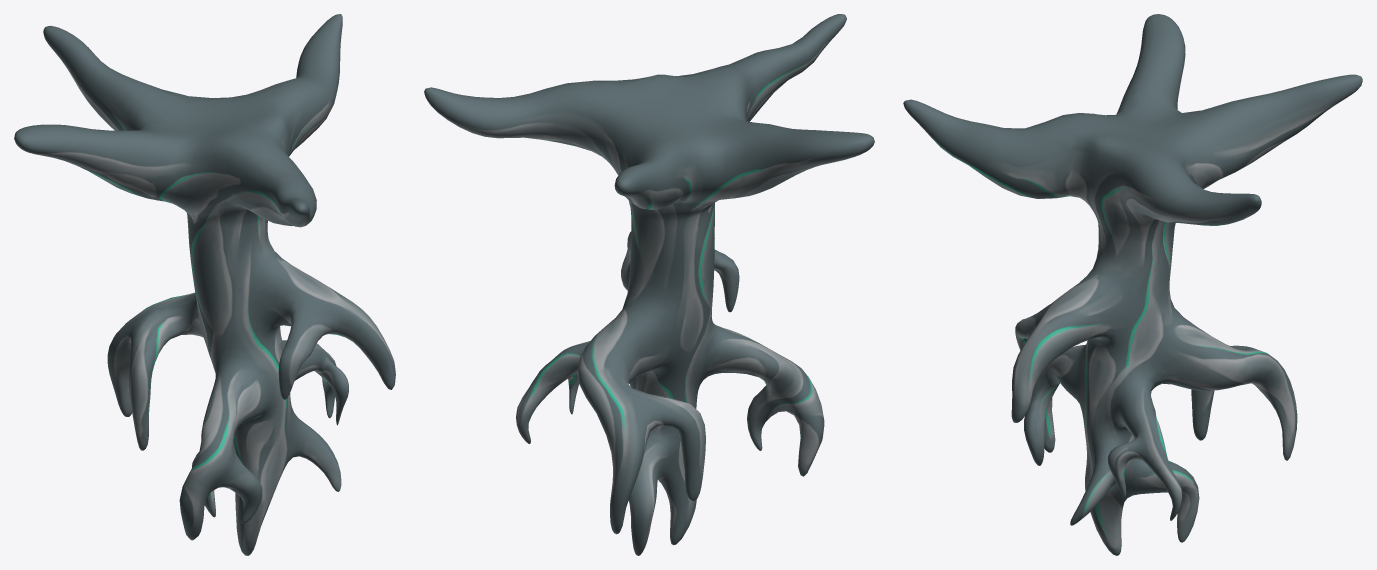
File: willowtreemain.fbx
3 renders of one model, left to right at view 1: azimuth 30°, elevation 25°; view 2: azimuth 150°, elevation 25°; view 3: azimuth 270°, elevation 25°, orthographic. The views are drawn at different scales.
Parts seen in each view (by area): view 1: WillowTreeMain; view 2: WillowTreeMain; view 3: WillowTreeMain.
Boxes of the visible parts, <box> form: WillowTreeMain: <box>14,14,395,555</box>; WillowTreeMain: <box>424,14,874,555</box>; WillowTreeMain: <box>903,14,1362,555</box>.
Bounding box in the file's own units: 583 × 677 × 633.
1 material, 1 textured.
